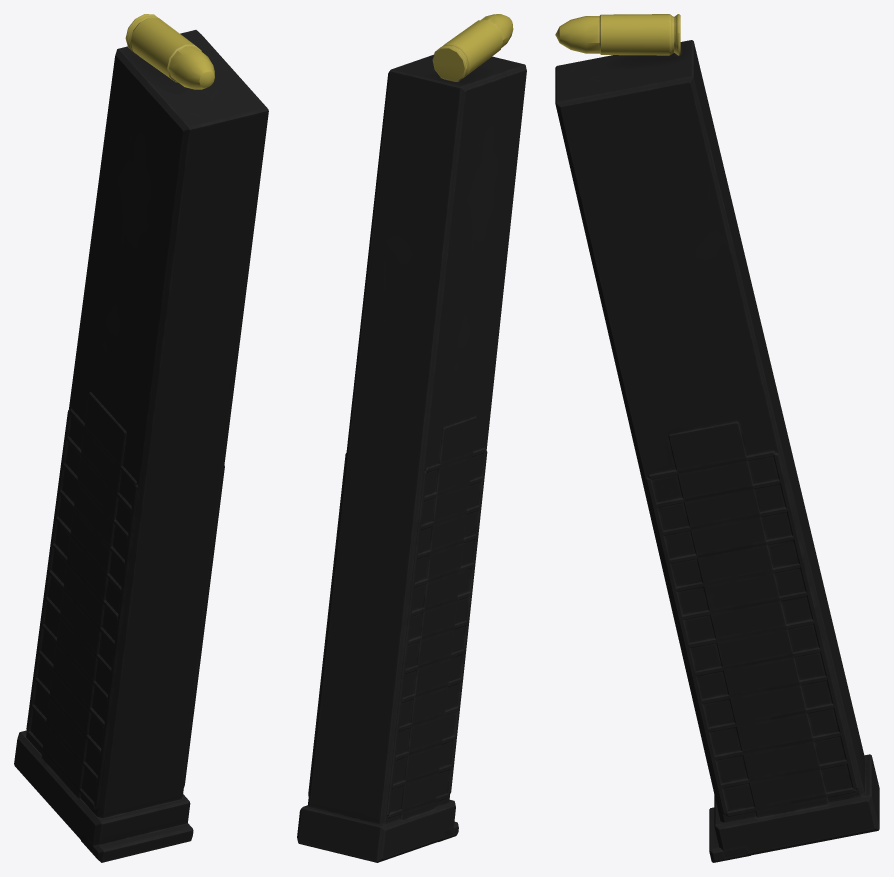
File: Mag_Glock17_Ext.fbx
3 renders of one model, left to right at view 1: azimuth 30°, elevation 25°; view 2: azimuth 150°, elevation 25°; view 3: azimuth 270°, elevation 25°, orthographic. The views are drawn at different scales.
Visible parts, largest first — view 1: Body; view 2: Body; view 3: Body.
Boxes of the visible parts, left/top/right/bottom form: Body: left=14, top=14, right=268, bottom=862; Body: left=297, top=14, right=526, bottom=862; Body: left=555, top=14, right=879, bottom=862.
Bounding box in the file's own units: 0.0248 × 0.2137 × 0.0769.
